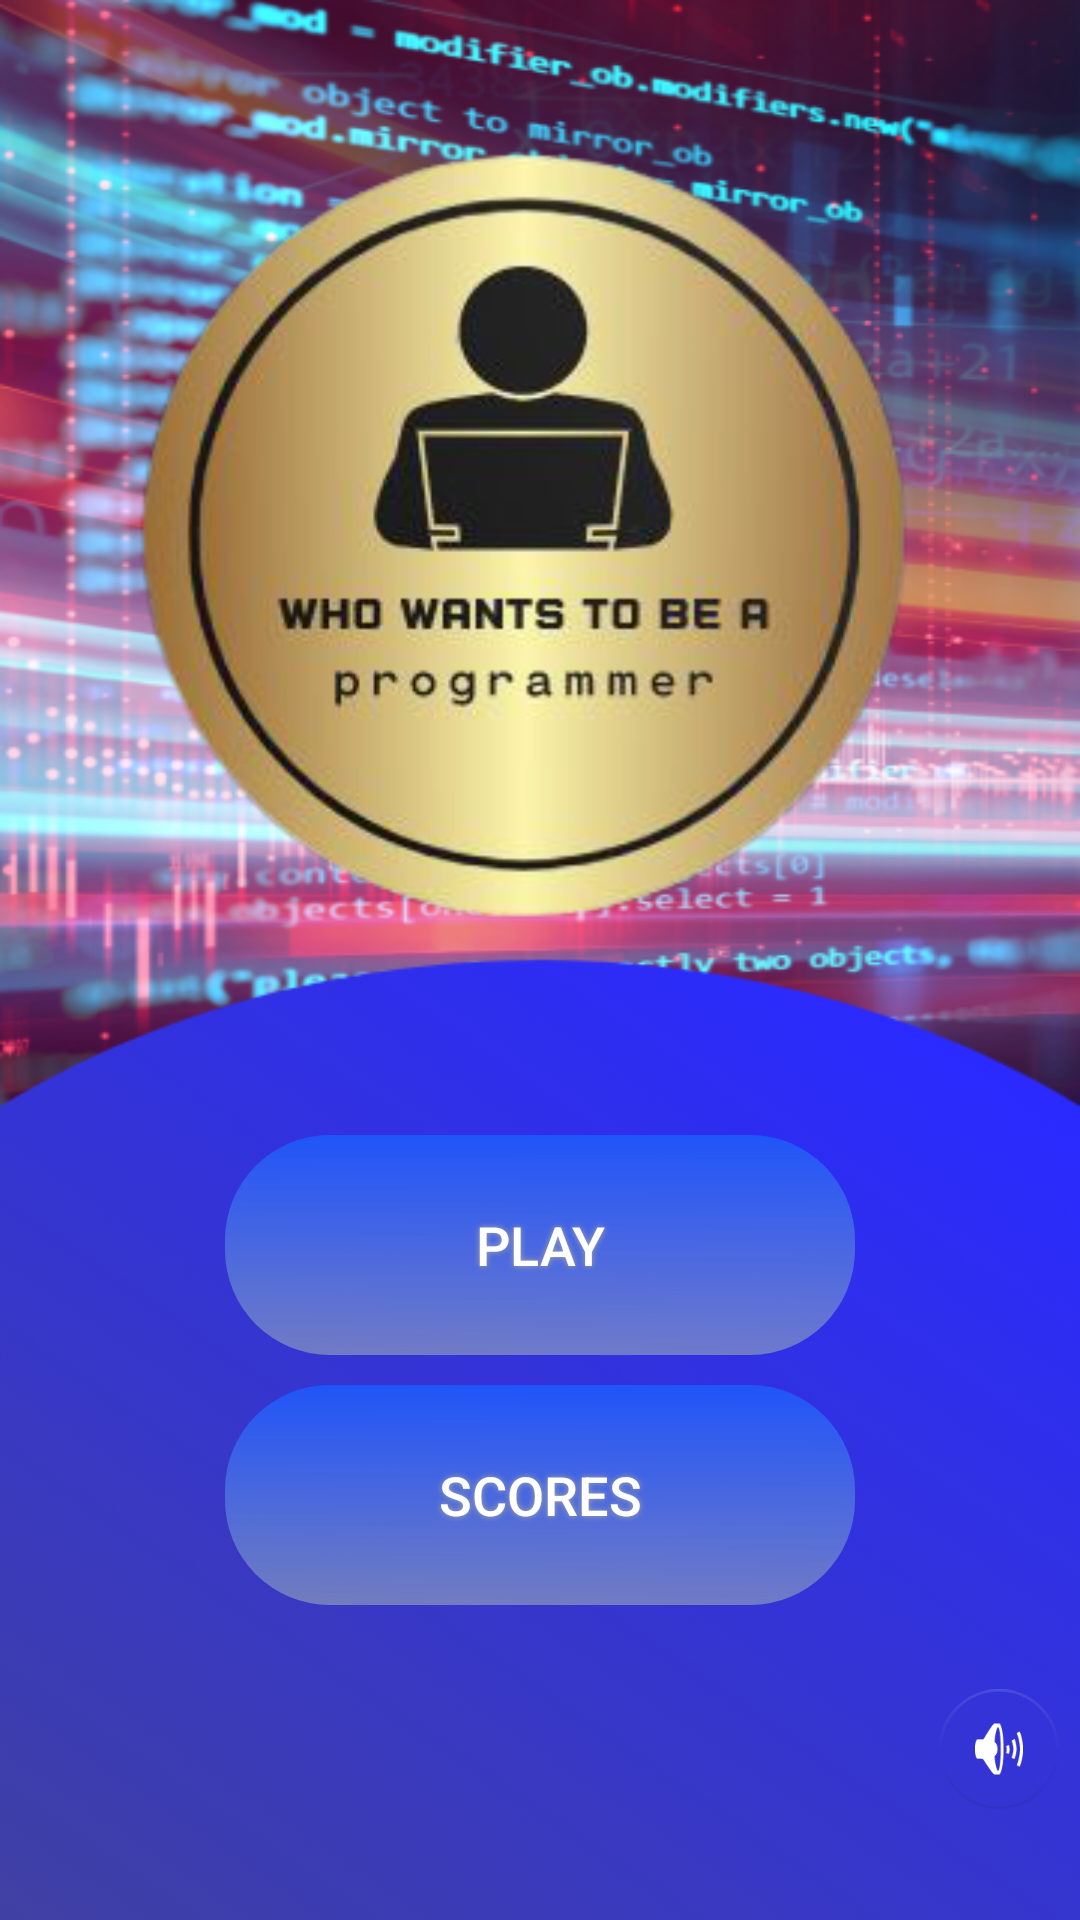

Point at icon controls on the screen. Image size 1080px x 1920px, points as (x=x, y=y).
lock silent mode off: (x=999, y=1732)
